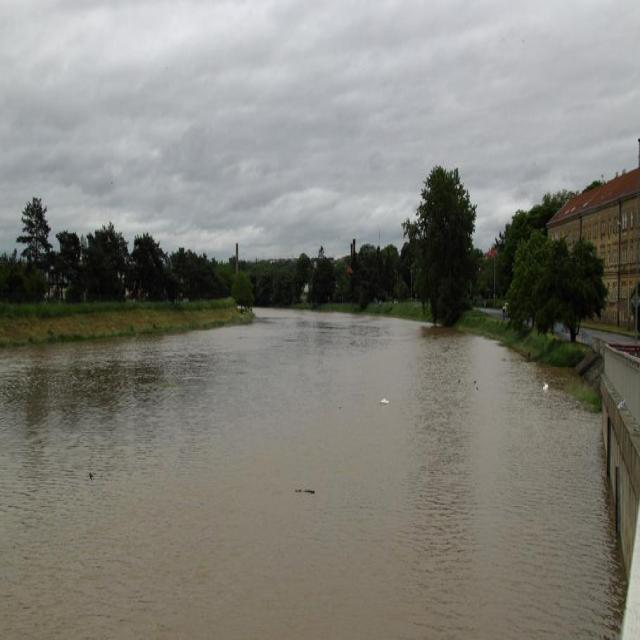flood: (0, 297, 611, 640)
